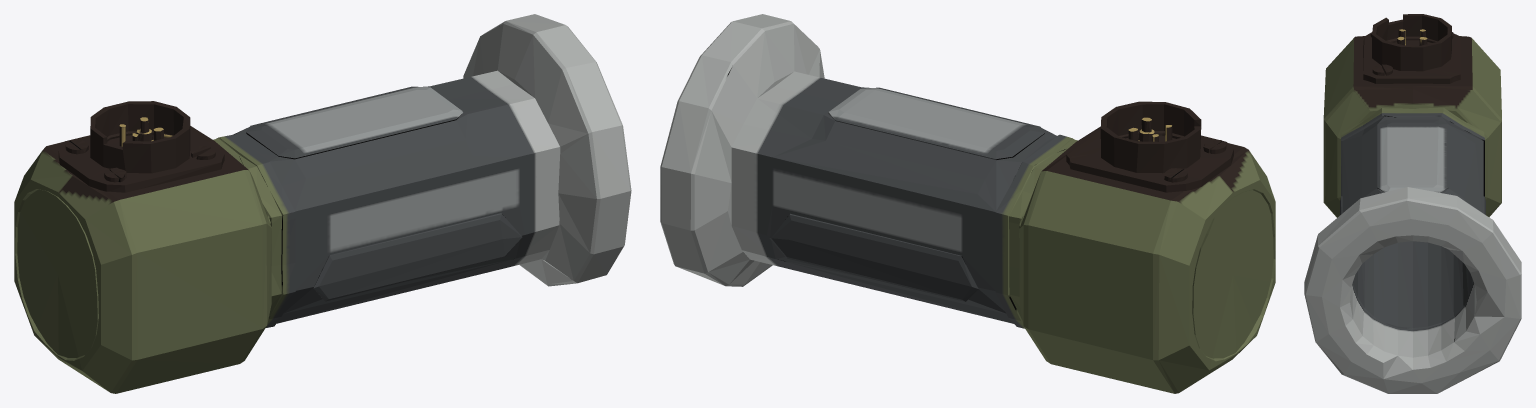
The model's file is 24-pirani-gauge-head.fbx.
The picture shows the model from 3 angles, left to right: view 1: azimuth 30°, elevation 25°; view 2: azimuth 150°, elevation 25°; view 3: azimuth 270°, elevation 25°; orthographic projection. The views are drawn at different scales.
Parts seen in each view (by area): view 1: geometry_0; view 2: geometry_0; view 3: geometry_0.
Part boxes in pixels (x1,y1,x2,y2): geometry_0: [14, 14, 631, 393]; geometry_0: [660, 14, 1275, 393]; geometry_0: [1304, 14, 1521, 393].
Size of the model in its own units: 0.12 by 0.0556 by 0.0549.
3 materials, 3 textured.
